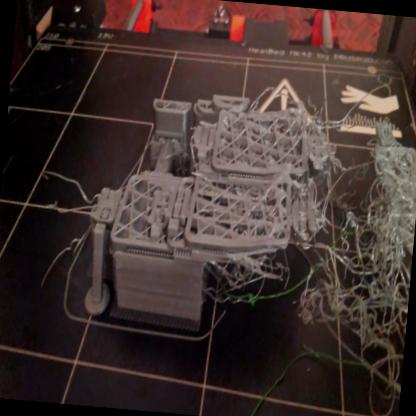fail: (302, 133, 416, 409)
